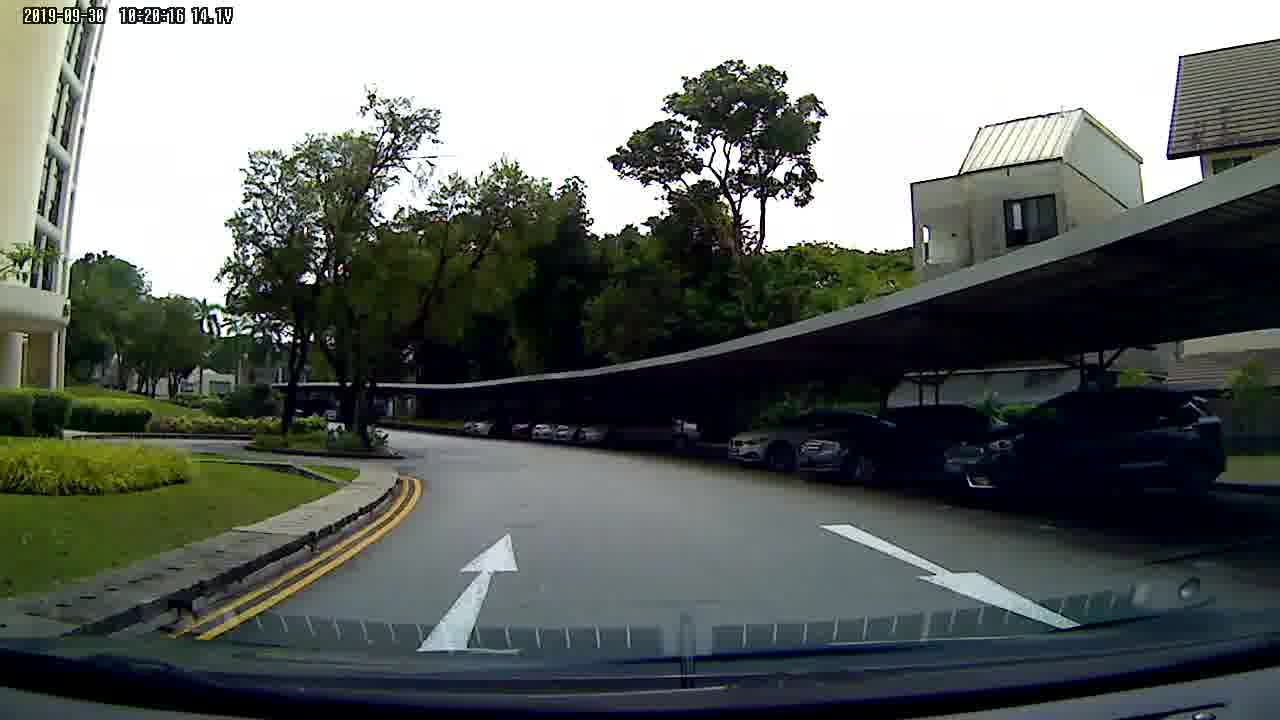car: (944, 390, 1233, 507), (792, 395, 939, 491)
